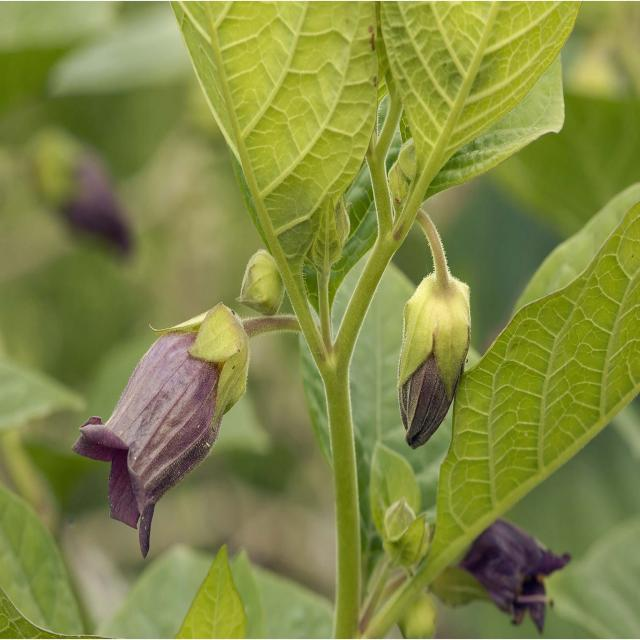Poisonous-Deadly_Nightshade: (359, 192, 626, 640), (170, 2, 585, 271), (66, 262, 289, 574)
